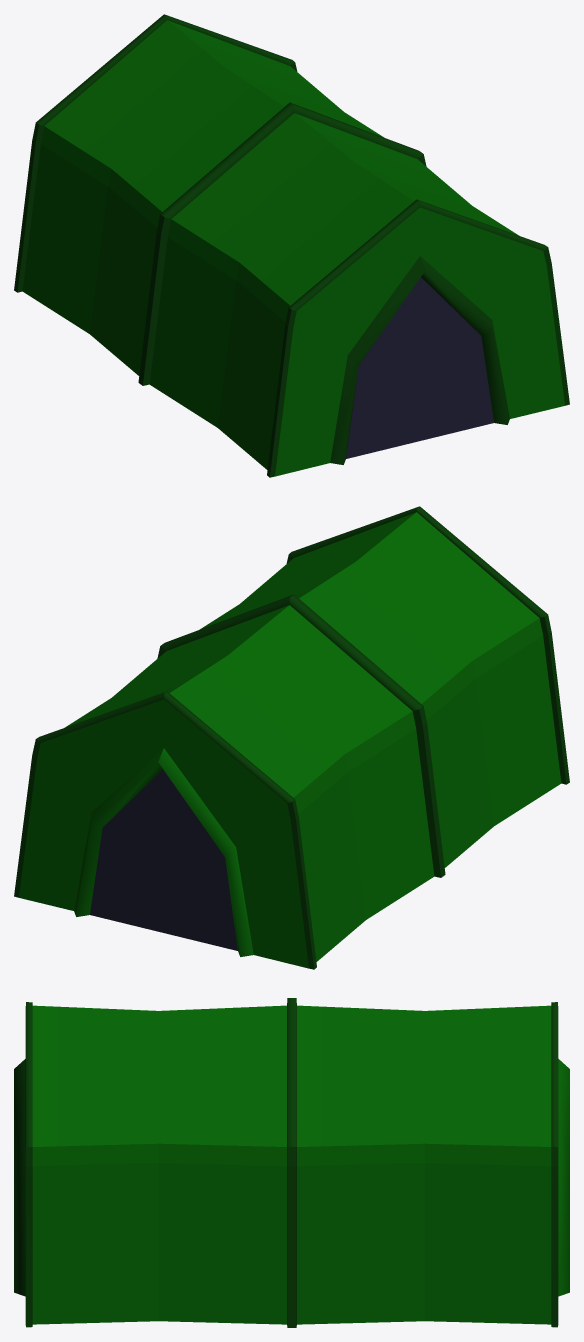
The model's file is PR_Tent.fbx.
3 renders of one model, top to bottom at view 1: azimuth 30°, elevation 25°; view 2: azimuth 150°, elevation 25°; view 3: azimuth 270°, elevation 25°, orthographic. The views are drawn at different scales.
Visible parts, largest first — view 1: Tent; view 2: Tent; view 3: Tent.
Part boxes in pixels (x1,y1,x2,y2): Tent: (14, 14, 569, 477); Tent: (14, 506, 569, 969); Tent: (14, 998, 569, 1327).
Size of the model in its own units: 486 by 373 by 743.
